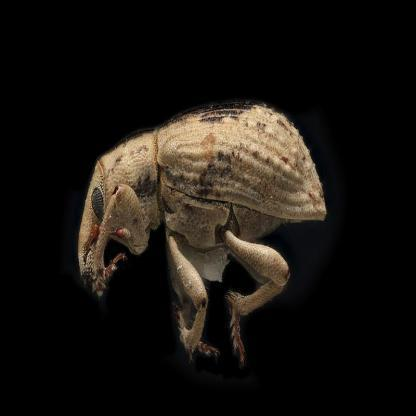rice-bug: (78, 105, 327, 364)
